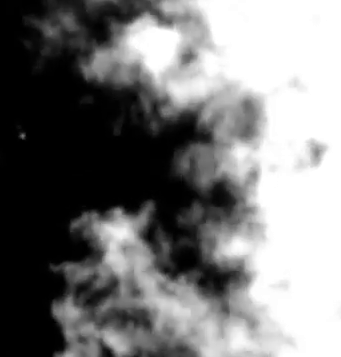Target: (21, 134, 26, 139)
